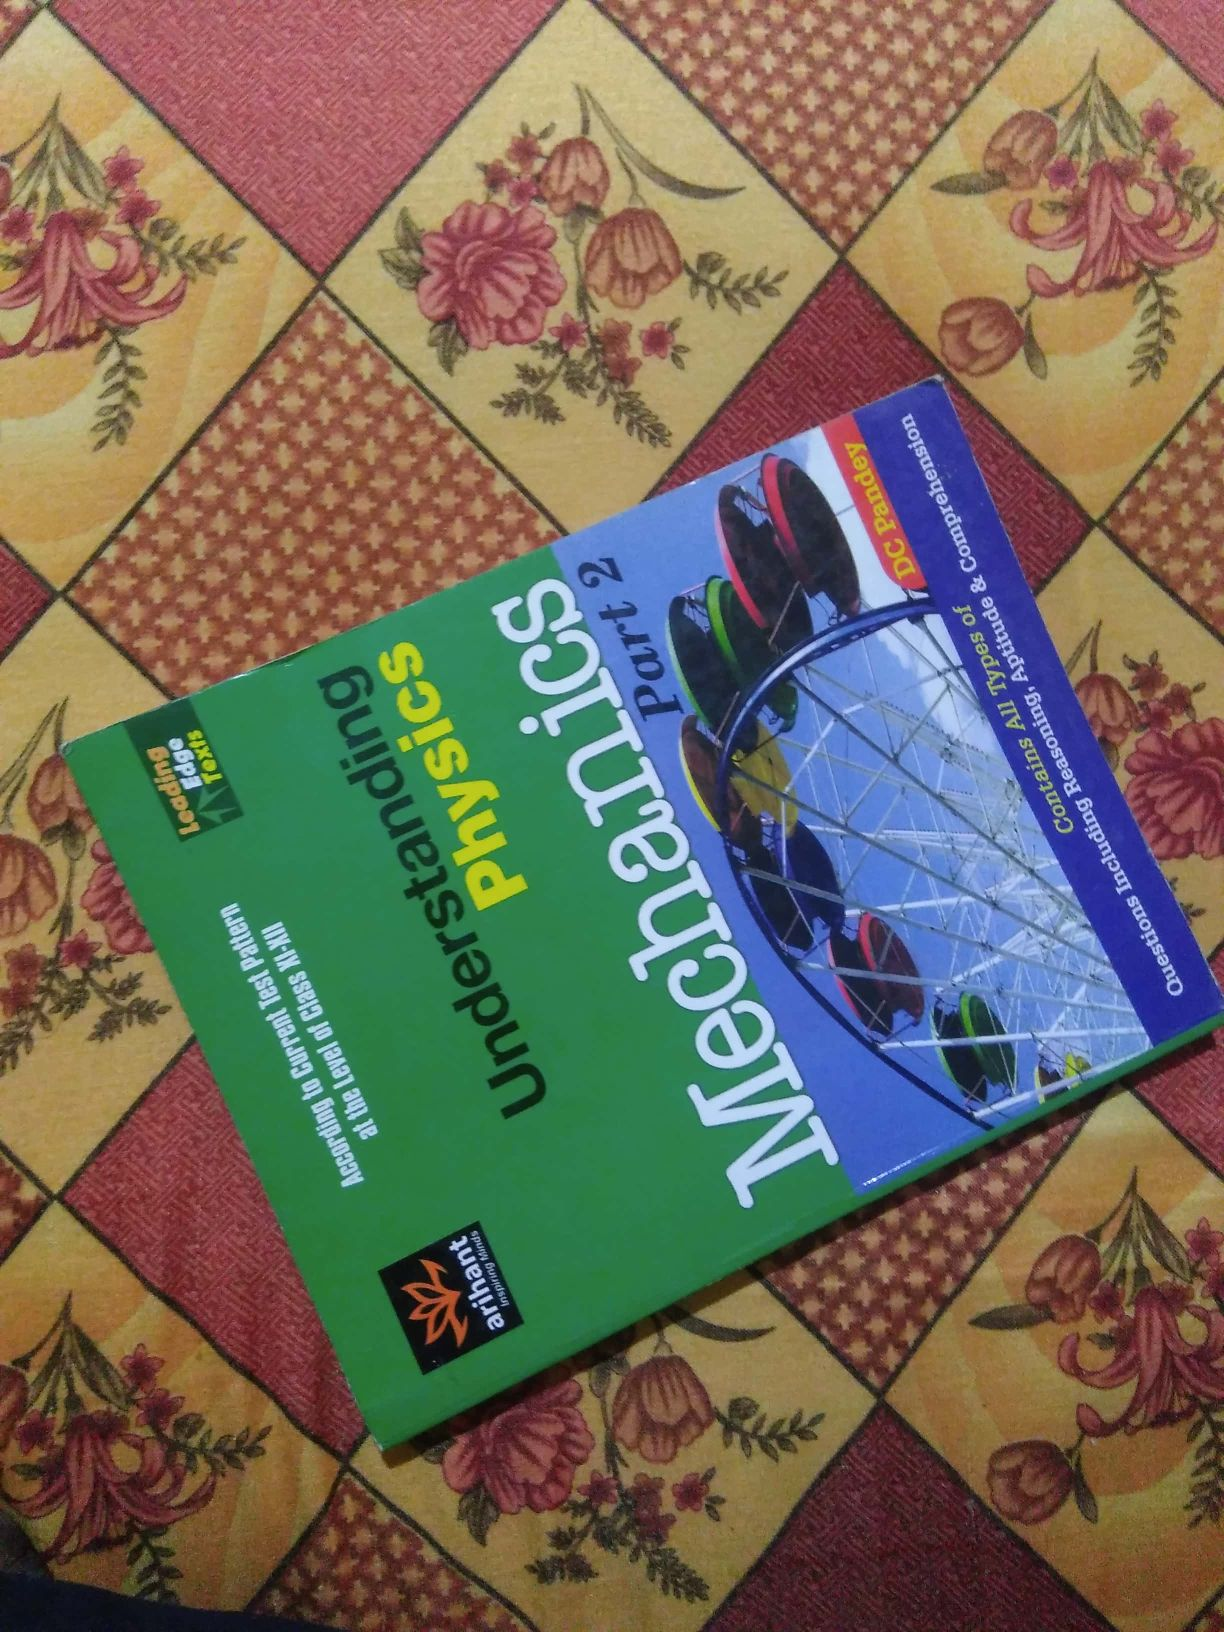mechanics: (120, 505, 1171, 1351)
